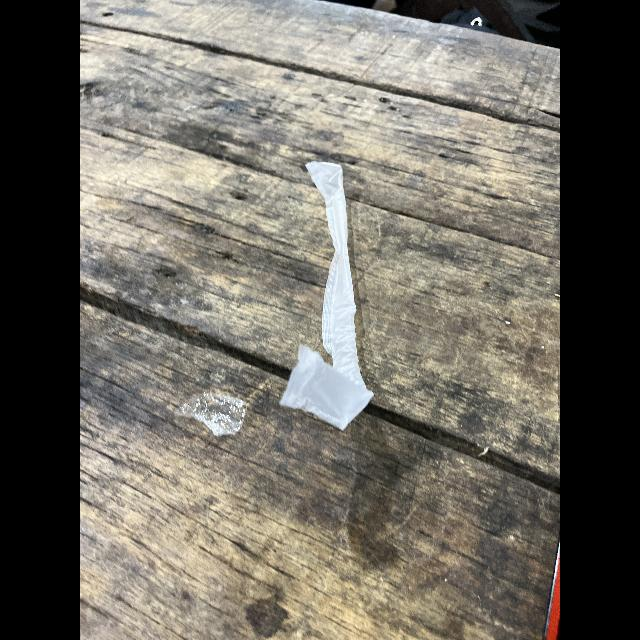scrap_plastic: (285, 154, 369, 440), (191, 388, 249, 438)
